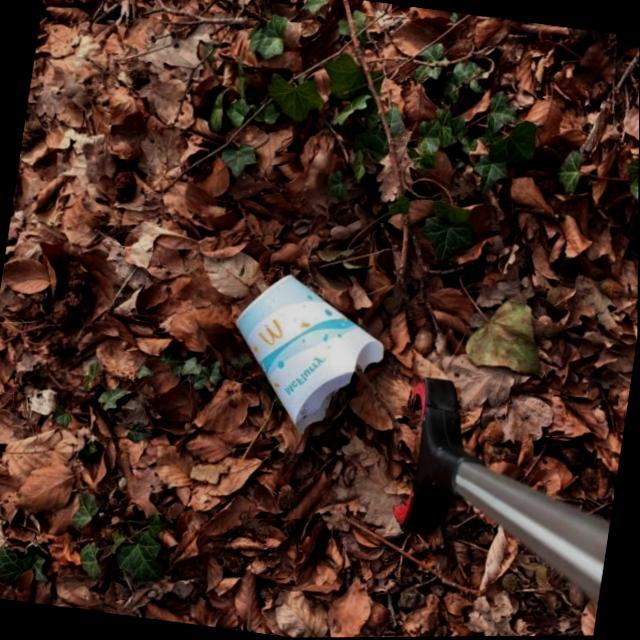Paper: (218, 265, 396, 447)
